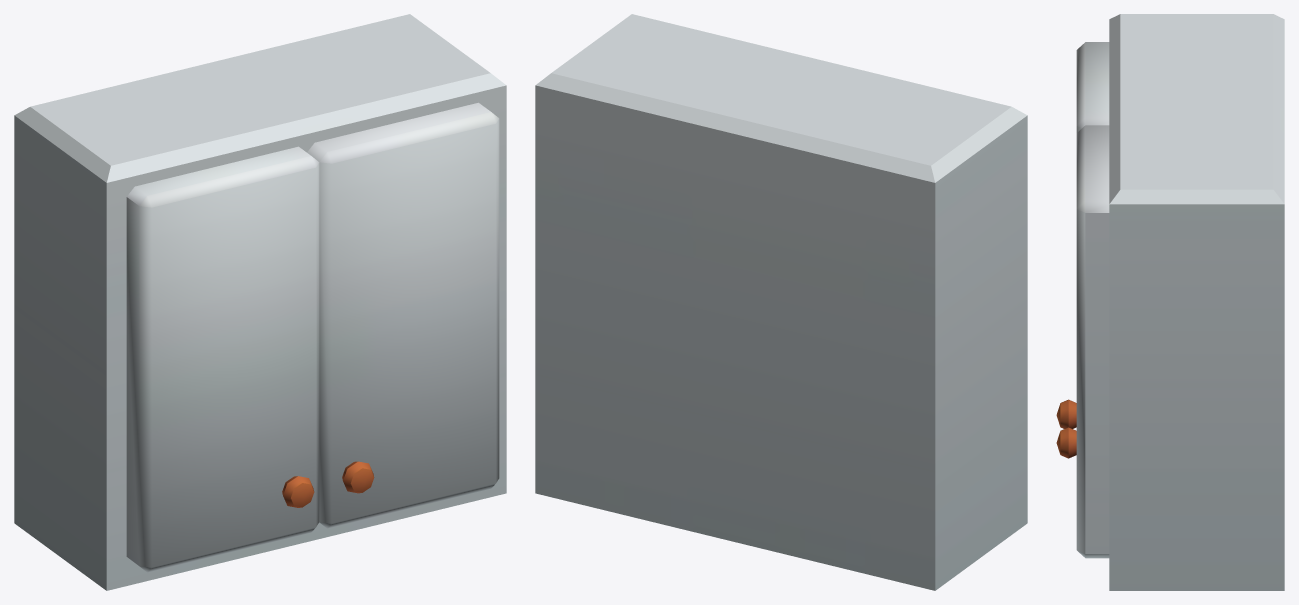
Rendered from kitchencabinet.glb.
3 renders of one model, left to right at view 1: azimuth 30°, elevation 25°; view 2: azimuth 150°, elevation 25°; view 3: azimuth 270°, elevation 25°, orthographic. The views are drawn at different scales.
Visible parts, largest first — view 1: kitchencabinet; view 2: kitchencabinet; view 3: kitchencabinet.
Boxes of the visible parts, x1,y1,x2,y2 form: kitchencabinet: (14, 14, 506, 590); kitchencabinet: (535, 14, 1027, 590); kitchencabinet: (1056, 14, 1284, 590).
Size of the model in its own units: 2 by 2 by 1.04.
1 material, 1 textured.
